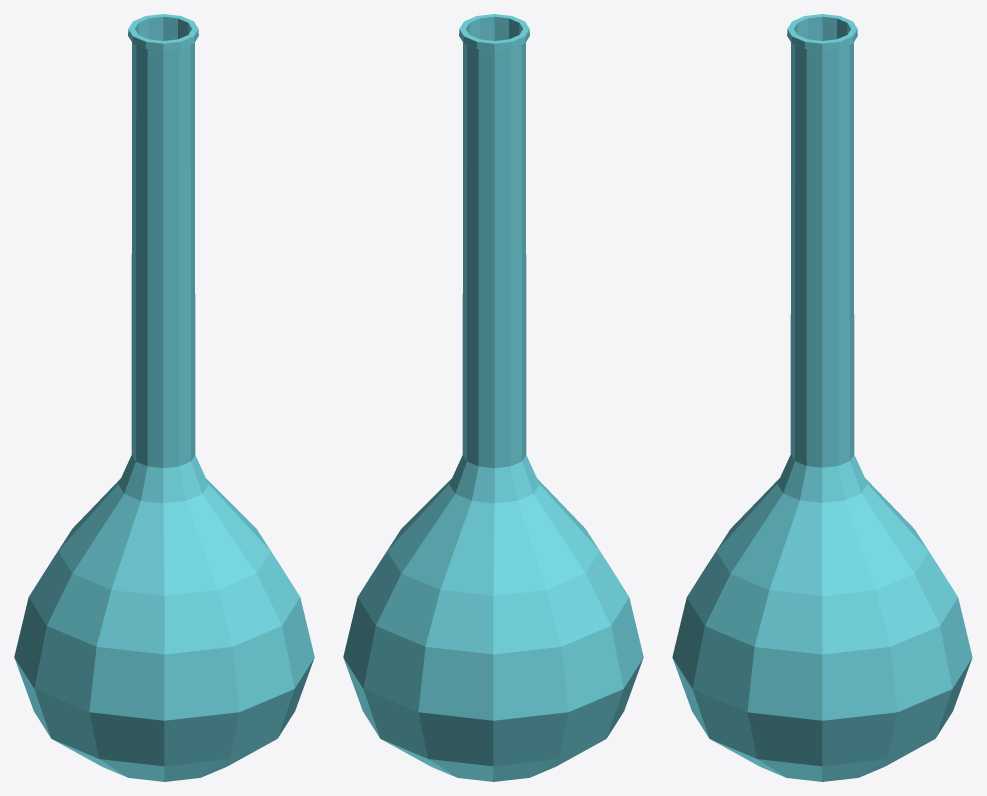
Rendered from SM_Flask_01_B.glb.
3 renders of one model, left to right at view 1: azimuth 30°, elevation 25°; view 2: azimuth 150°, elevation 25°; view 3: azimuth 270°, elevation 25°, orthographic.
Visible parts, largest first — view 1: SM_Flask_01_B; view 2: SM_Flask_01_B; view 3: SM_Flask_01_B.
Boxes of the visible parts, box(x1,y1,x2,y2) form: SM_Flask_01_B: box(14, 14, 314, 781); SM_Flask_01_B: box(343, 14, 643, 781); SM_Flask_01_B: box(672, 14, 972, 781).
Bounding box in the file's own units: 0.1306 × 0.3466 × 0.1306.
